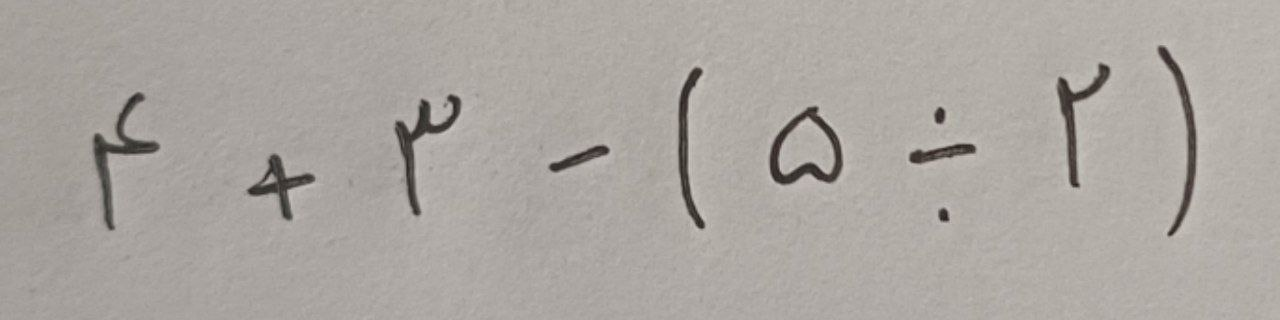character: (92, 92, 160, 232), (909, 103, 977, 225), (397, 94, 461, 215), (1057, 62, 1113, 194), (1159, 48, 1199, 230), (771, 105, 843, 188), (248, 154, 317, 221), (679, 66, 706, 228), (546, 139, 603, 171)
